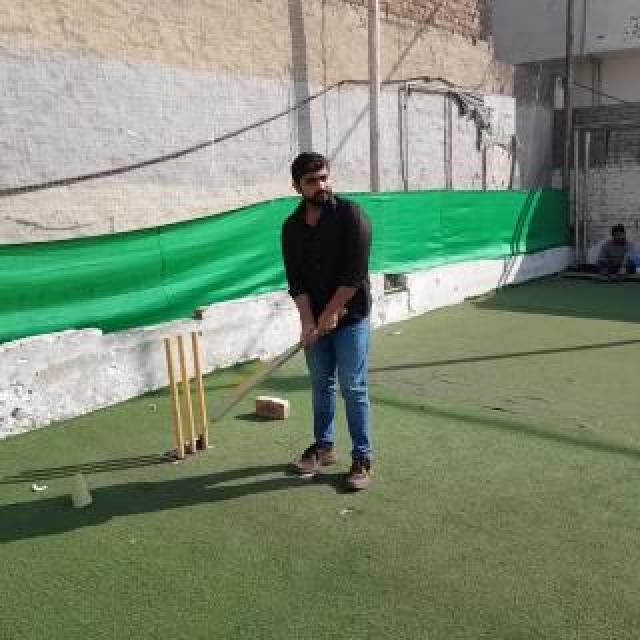bat: (211, 306, 349, 422)
